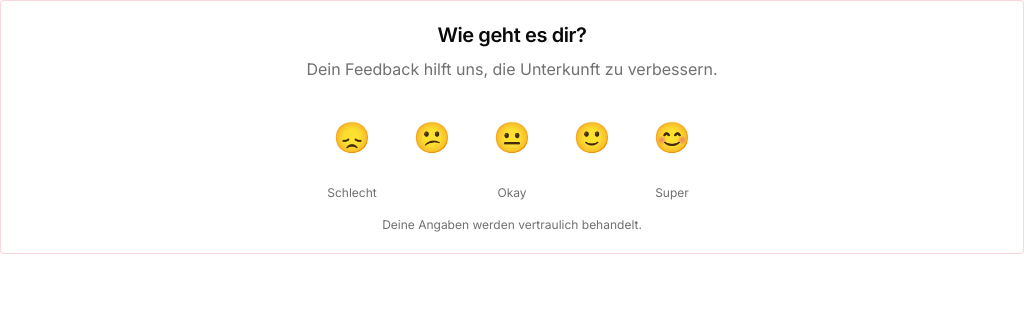
it: SatisfactionRating › shows thank-you view after successful submission for high rating
Step 1. Click the button named "Sehr zufrieden" → (672, 137), box [640,105,704,169]
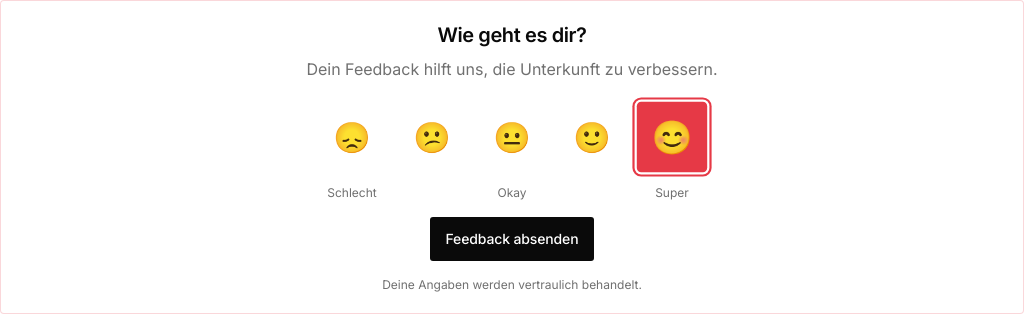
Step 2. Click the button "Feedback absenden" → (512, 239), box [430,217,594,261]
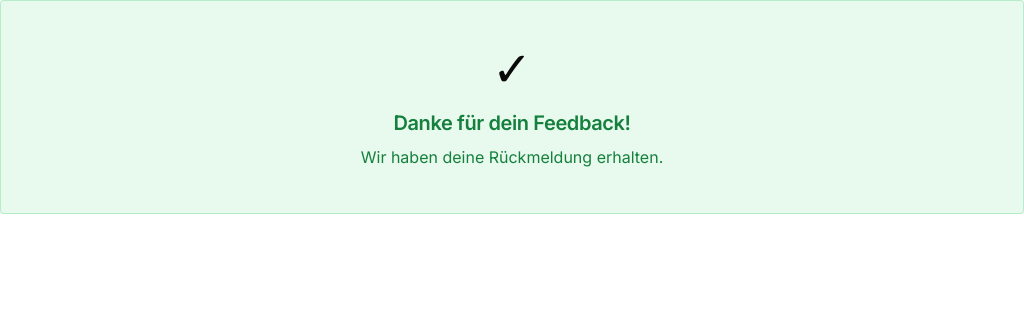
Check: the heading "Danke für dein Feedback!" is shown, box [394,111,631,135]
Check: the heading "Wie geht es dir?" is gone
